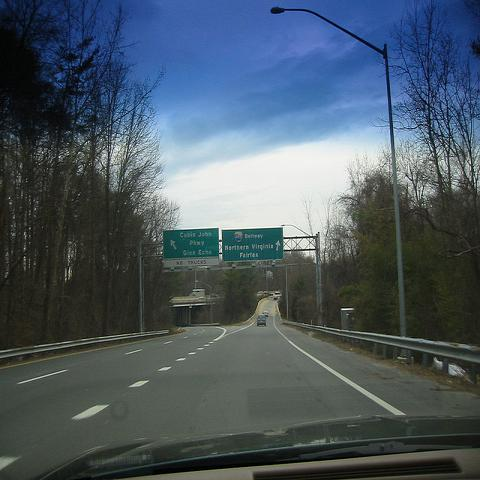car: (1, 414, 479, 473), (257, 314, 266, 326), (273, 292, 281, 300), (262, 311, 269, 317), (257, 290, 263, 296), (277, 296, 282, 300), (263, 291, 267, 294)
